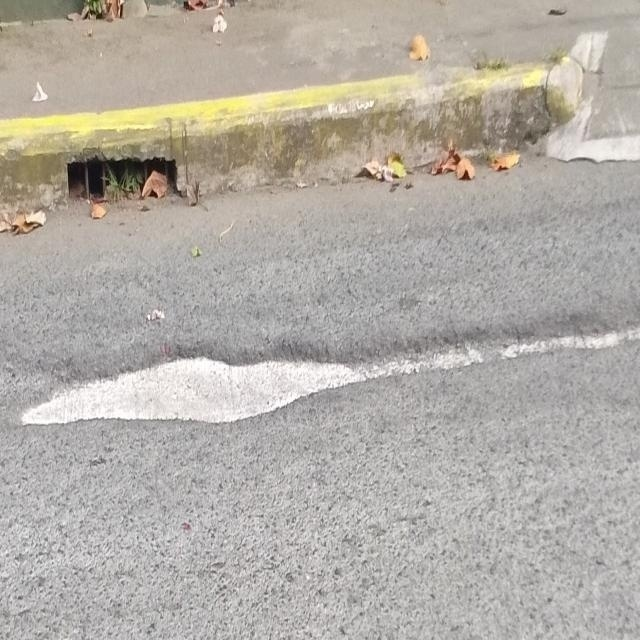pothole: (12, 223, 635, 502)
